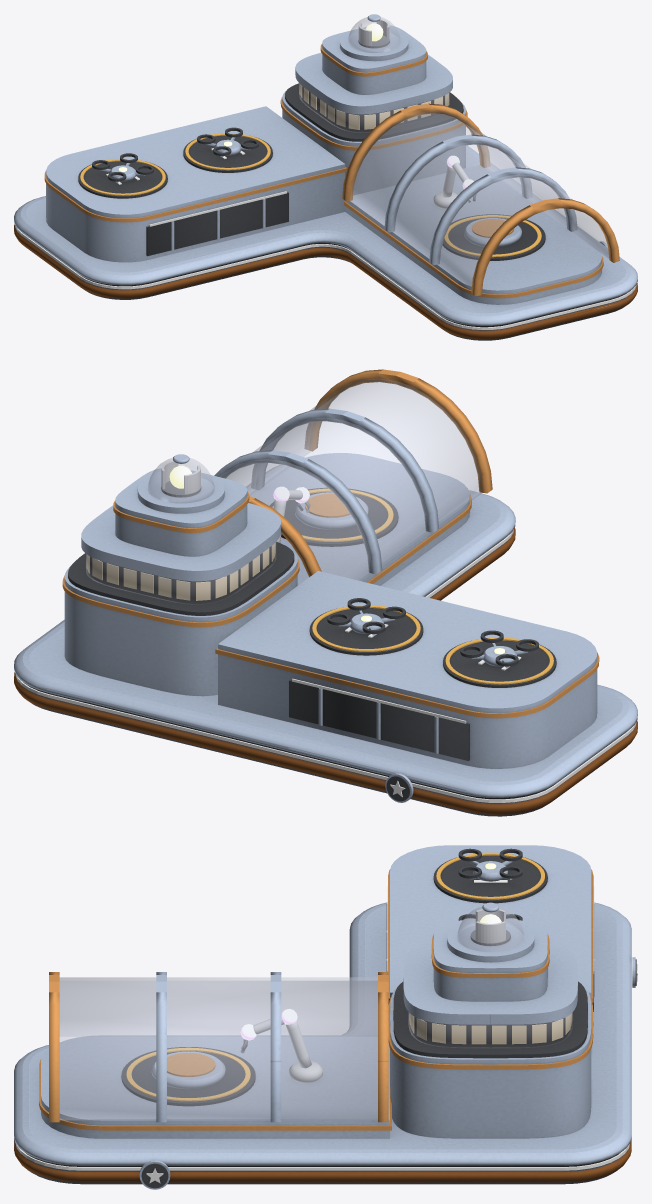
The model's file is SM_Evo_EmergencyCenter.fbx.
The picture shows the model from 3 angles, top to bottom: view 1: azimuth 30°, elevation 25°; view 2: azimuth 150°, elevation 25°; view 3: azimuth 270°, elevation 25°; orthographic projection. The views are drawn at different scales.
Visible parts, largest first — view 1: SMN_Evo_EmergencyCenter, Emblem_Fx_EmergencyCenter, SpinDish_EmergencyCenter, SpinRadar_EmergencyCenter; view 2: SMN_Evo_EmergencyCenter, Emblem_Fx_EmergencyCenter, SpinRadar_EmergencyCenter, SpinDish_EmergencyCenter; view 3: SMN_Evo_EmergencyCenter, Emblem_Fx_EmergencyCenter, SpinDish_EmergencyCenter, SpinRadar_EmergencyCenter.
Part boxes in pixels (left/top/right/bottom): SMN_Evo_EmergencyCenter: left=14, top=14, right=637, bottom=340; Emblem_Fx_EmergencyCenter: left=15, top=17, right=636, bottom=329; SpinDish_EmergencyCenter: left=433, top=155, right=476, bottom=208; SpinRadar_EmergencyCenter: left=358, top=19, right=389, bottom=48; SMN_Evo_EmergencyCenter: left=14, top=369, right=637, bottom=816; Emblem_Fx_EmergencyCenter: left=15, top=378, right=636, bottom=802; SpinRadar_EmergencyCenter: left=161, top=460, right=201, bottom=497; SpinDish_EmergencyCenter: left=273, top=486, right=310, bottom=542; SMN_Evo_EmergencyCenter: left=14, top=845, right=636, bottom=1189; Emblem_Fx_EmergencyCenter: left=15, top=852, right=637, bottom=1183; SpinDish_EmergencyCenter: left=240, top=1009, right=322, bottom=1083; SpinRadar_EmergencyCenter: left=470, top=909, right=510, bottom=946.
Bounding box in the file's own units: 1.86 × 0.746 × 1.86.
